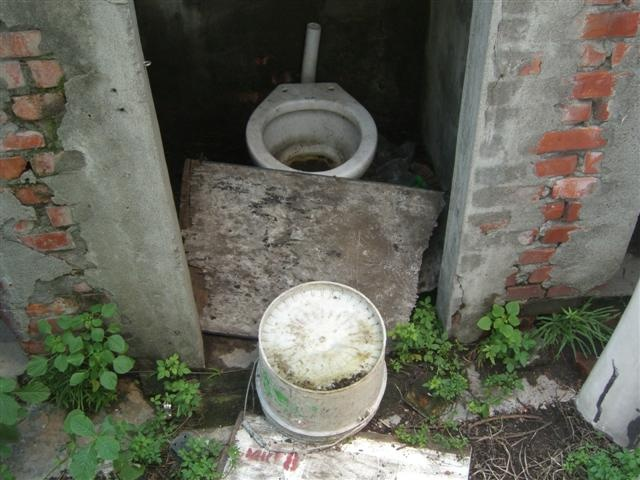bucket: (254, 281, 387, 447)
toilet: (245, 82, 378, 179)
